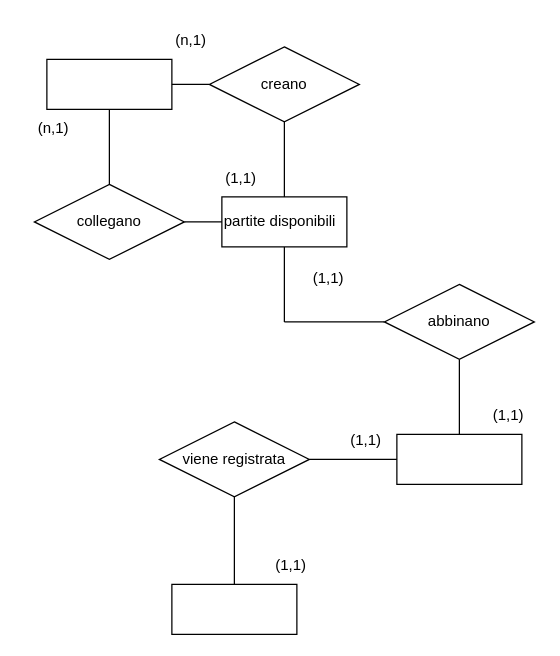
This 560x656 diagram has some shape labels left out. The shapes that lost their labels are listed below. From the top down, each one's centre as x and y in pixels, then its label:
pixel 109 83: utenti
pixel 459 458: partita
pixel 234 608: partite utente
